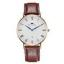watch: (14, 11, 50, 48)
